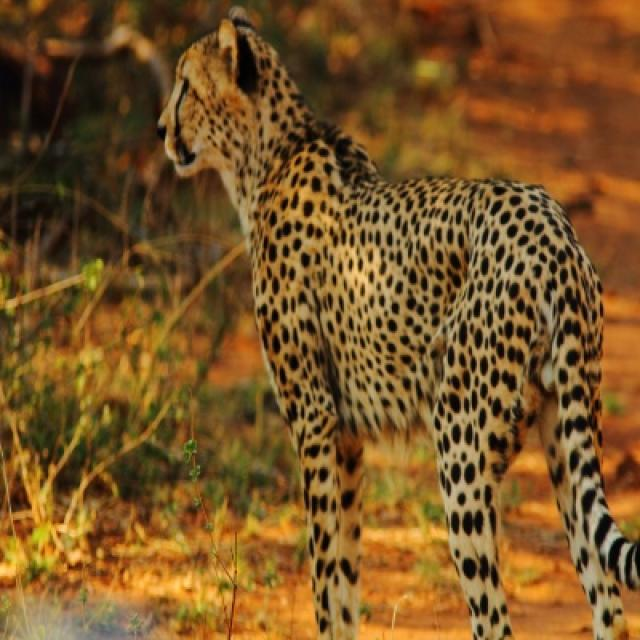Cheetah: (158, 11, 638, 638)
